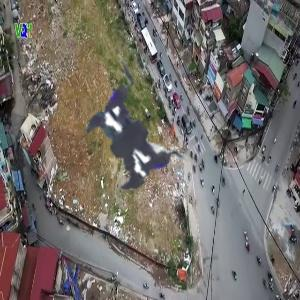drone: (14, 12, 260, 258)
